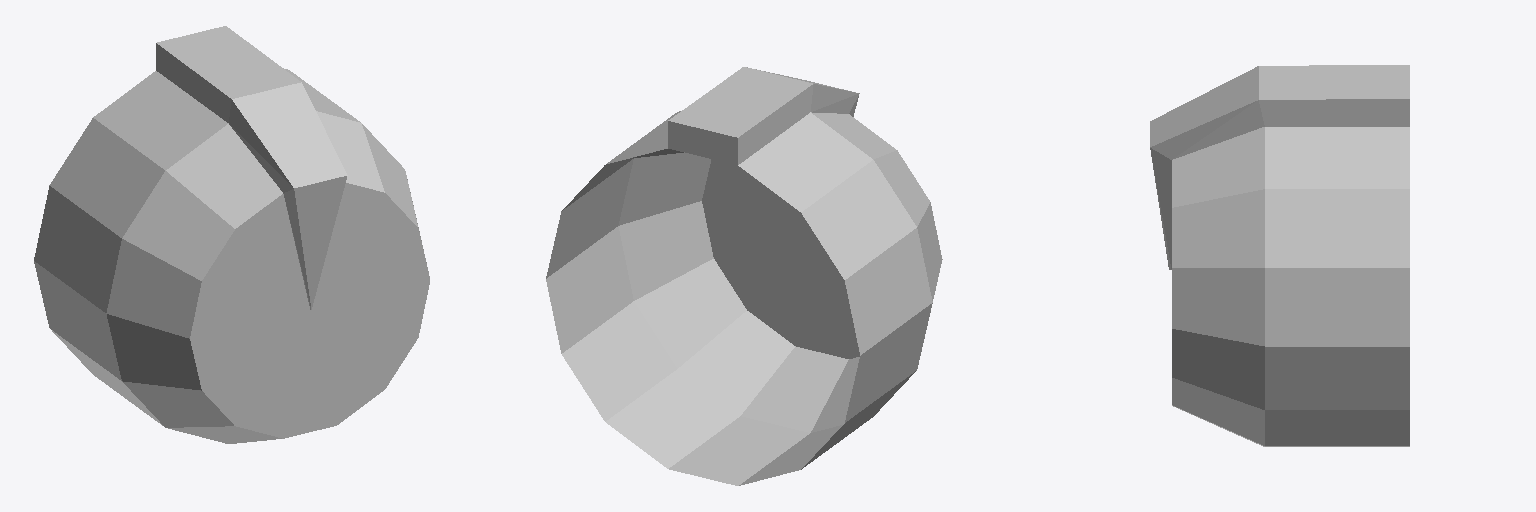
File: radio_knob_2.obj
The picture shows the model from 3 angles: view 1: azimuth 30°, elevation 25°; view 2: azimuth 150°, elevation 25°; view 3: azimuth 270°, elevation 25°; orthographic projection.
Bounding box in the file's own units: 0.4678 × 0.4955 × 0.3349.